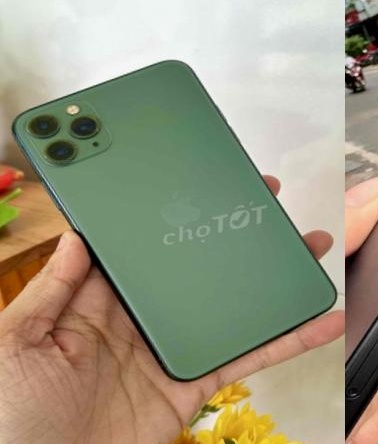scratch: (19, 94, 112, 168)
